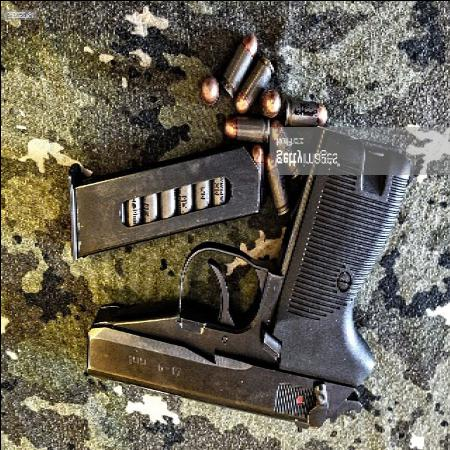Pistol: (83, 142, 411, 436)
